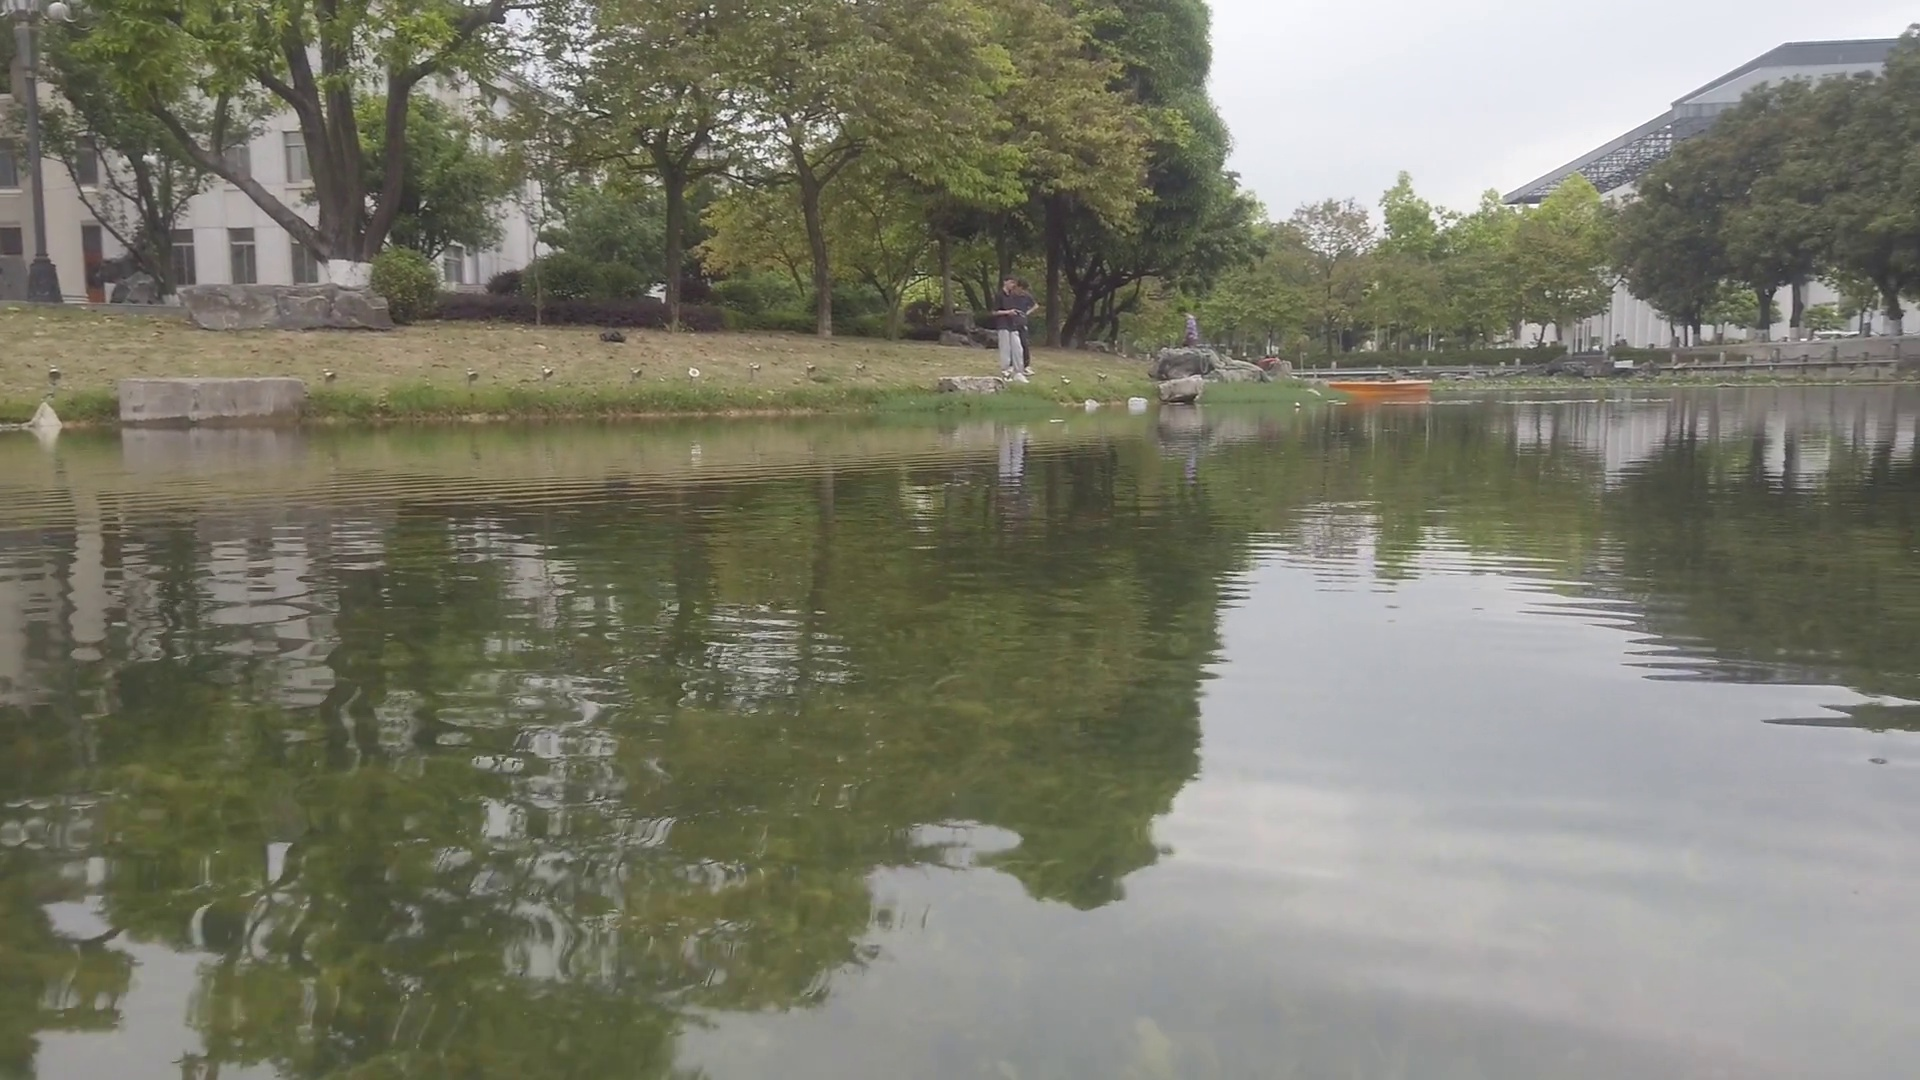bottle: (1295, 401, 1302, 407)
paper: (1048, 415, 1065, 425)
plastic: (1127, 397, 1147, 410), (1084, 400, 1098, 409)
